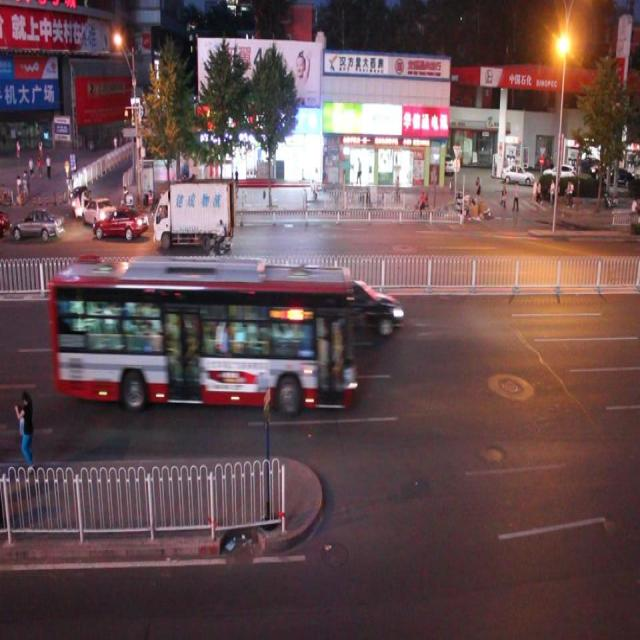bus: (152, 181, 235, 249)
car: (320, 276, 403, 334), (166, 185, 223, 232), (11, 202, 65, 241), (92, 204, 148, 240), (82, 193, 117, 228), (70, 182, 90, 210)
van: (50, 257, 350, 407)
